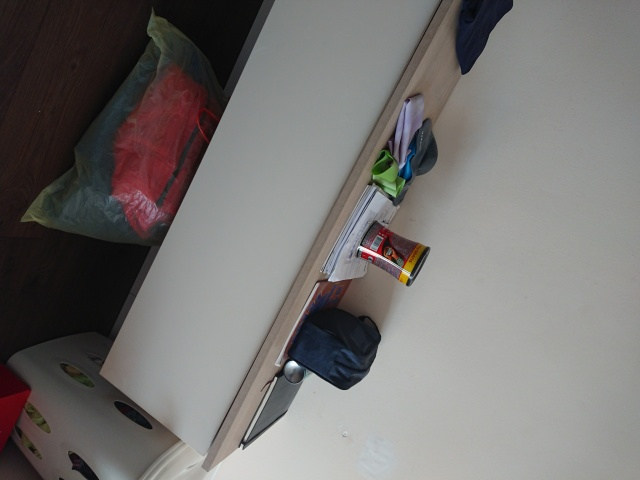Nescafe Classic 225g: (348, 215, 436, 292)
